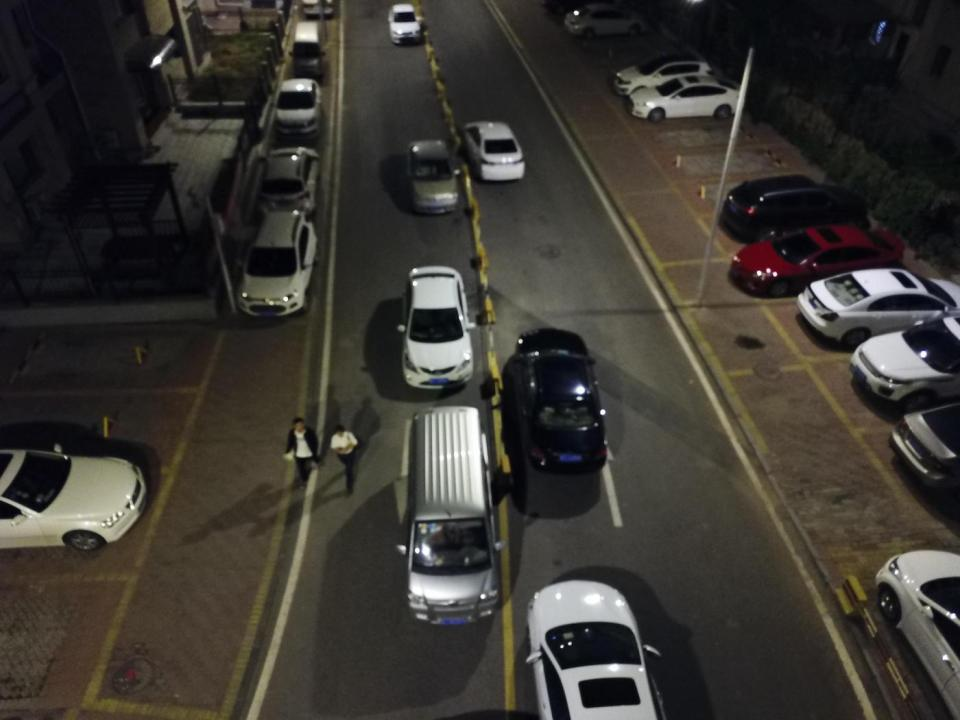car: (523, 578, 670, 720), (0, 441, 149, 552), (506, 327, 608, 475), (875, 548, 960, 720), (795, 266, 960, 350), (730, 225, 906, 297), (849, 315, 960, 413), (720, 174, 869, 246), (396, 264, 477, 390), (234, 211, 319, 318), (627, 75, 747, 123), (614, 51, 716, 99), (256, 146, 319, 218), (404, 138, 460, 216), (462, 119, 526, 182), (274, 78, 322, 141), (565, 6, 647, 39), (386, 2, 422, 45)
van: (394, 405, 506, 625), (288, 20, 326, 77)
